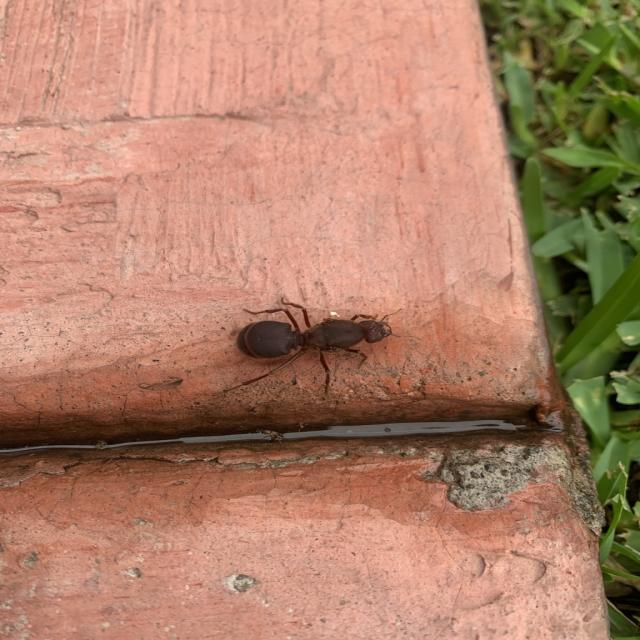Alive-Female-Dealate: (223, 296, 421, 393)
